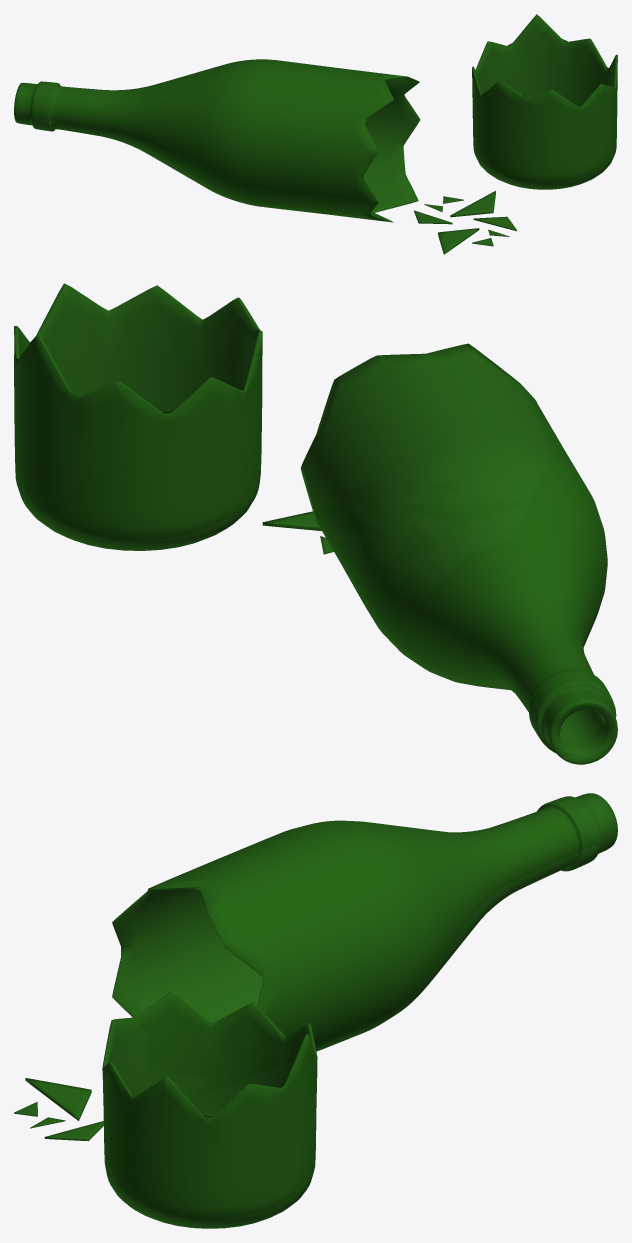
Rendered from broken_wine_bottle.glb.
3 views of the same model, one above another, from view 1: azimuth 30°, elevation 25°; view 2: azimuth 150°, elevation 25°; view 3: azimuth 270°, elevation 25° (orthographic). The views are drawn at different scales.
Visible parts, largest first — view 1: Botella_rota_parte_de_abajo__Botella 1hdd_0; view 2: Botella_rota_parte_de_abajo__Botella 1hdd_0; view 3: Botella_rota_parte_de_abajo__Botella 1hdd_0.
Part boxes in pixels (x1,y1,x2,y2): Botella_rota_parte_de_abajo__Botella 1hdd_0: [14, 14, 617, 254]; Botella_rota_parte_de_abajo__Botella 1hdd_0: [14, 283, 617, 764]; Botella_rota_parte_de_abajo__Botella 1hdd_0: [14, 793, 617, 1228].
Size of the model in its own units: 44.05 by 12 by 33.48.
